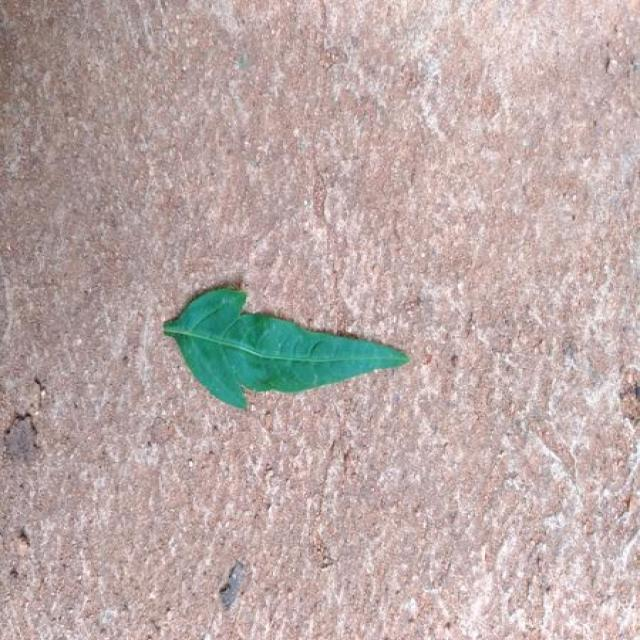defectedballoon_Vine: (163, 288, 408, 408)
